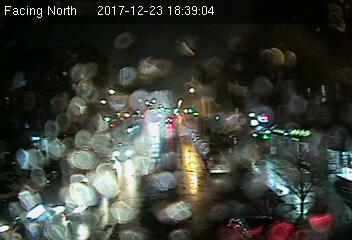car: (206, 155, 231, 174)
